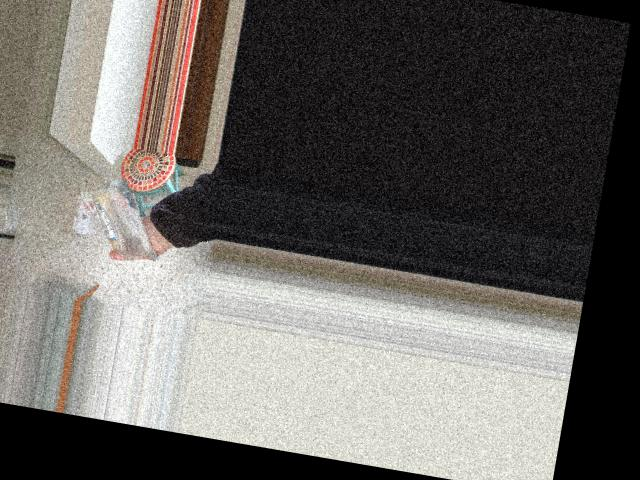cheese: (59, 148, 179, 272)
